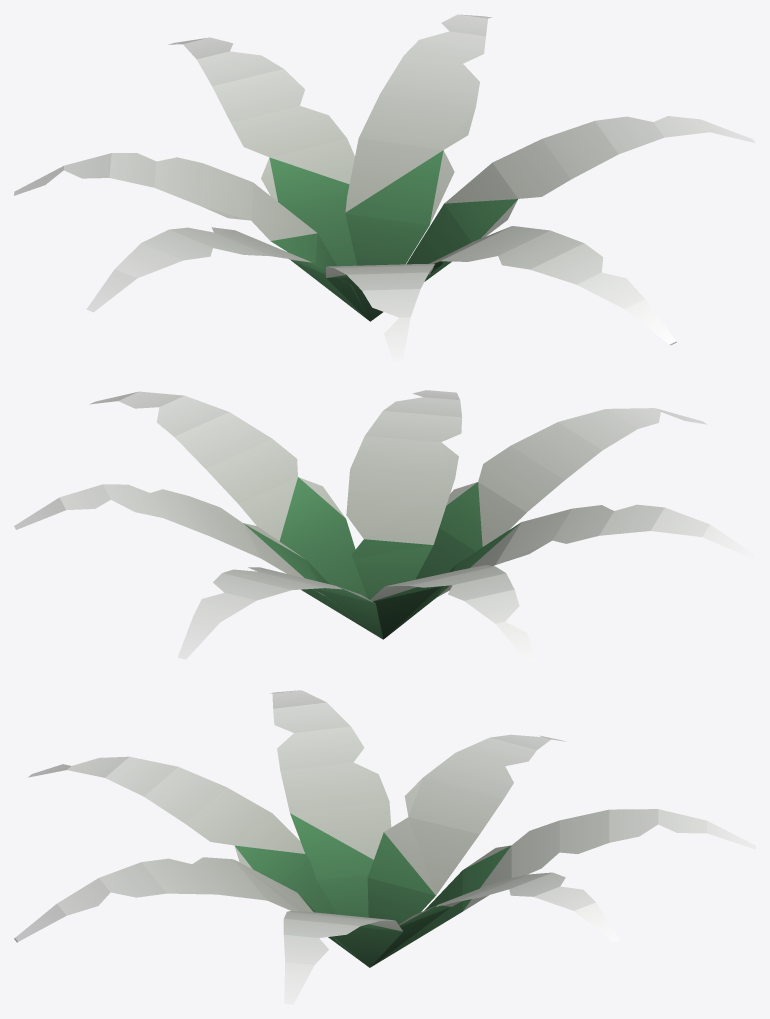
Rendered from SnowFern.fbx.
The picture shows the model from 3 angles, top to bottom: view 1: azimuth 30°, elevation 25°; view 2: azimuth 150°, elevation 25°; view 3: azimuth 270°, elevation 25°; orthographic projection. The views are drawn at different scales.
Parts seen in each view (by area): view 1: SnowFern; view 2: SnowFern; view 3: SnowFern.
Boxes of the visible parts, x1=… form: SnowFern: x1=14, y1=14, x2=755, y2=361; SnowFern: x1=14, y1=390, x2=755, y2=661; SnowFern: x1=14, y1=690, x2=755, y2=1004.
Size of the model in its own units: 433 by 106 by 434.
